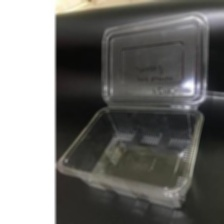plastic_box: (55, 7, 217, 213)
